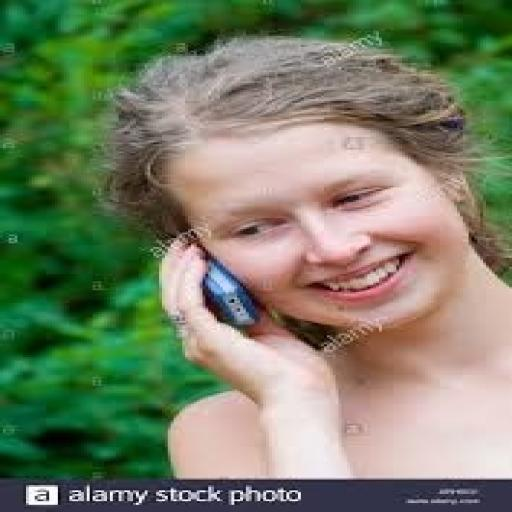calling: (96, 32, 509, 480)
